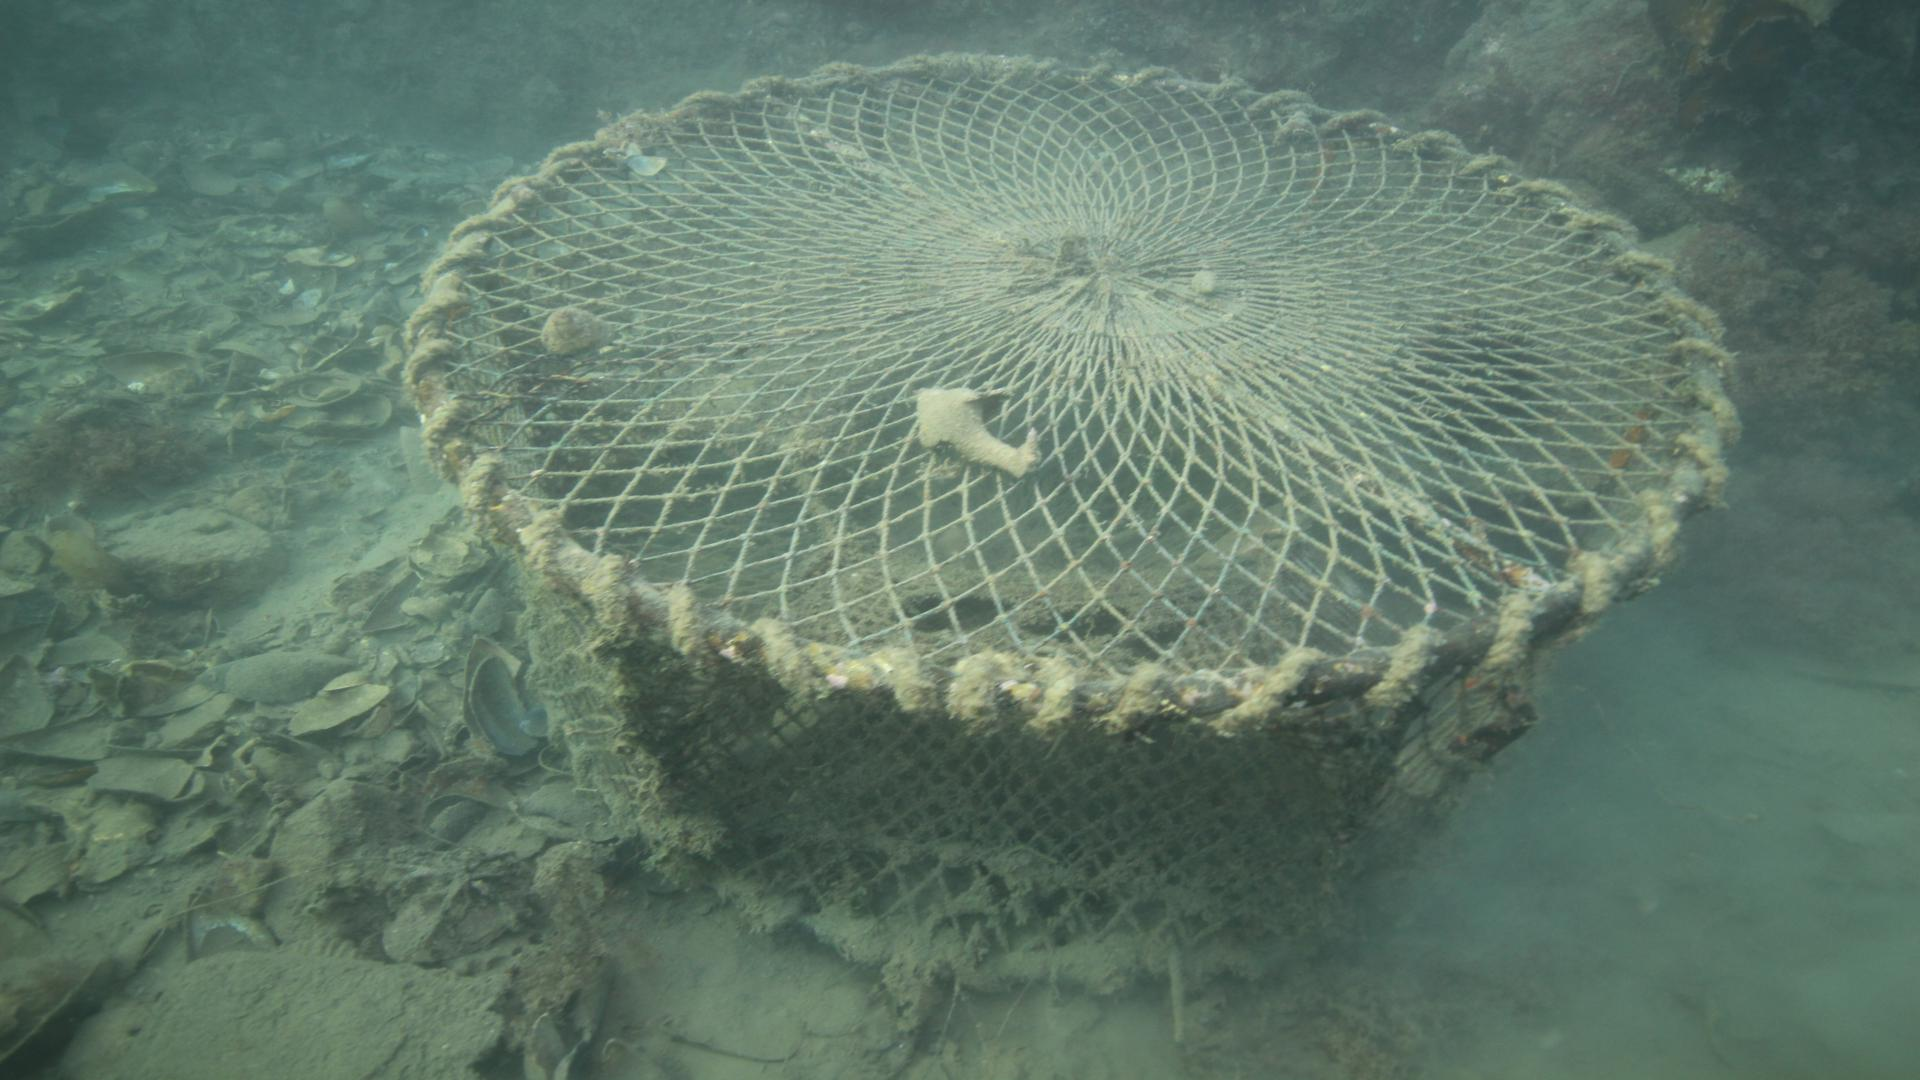circular fish trap: (398, 47, 1742, 996)
